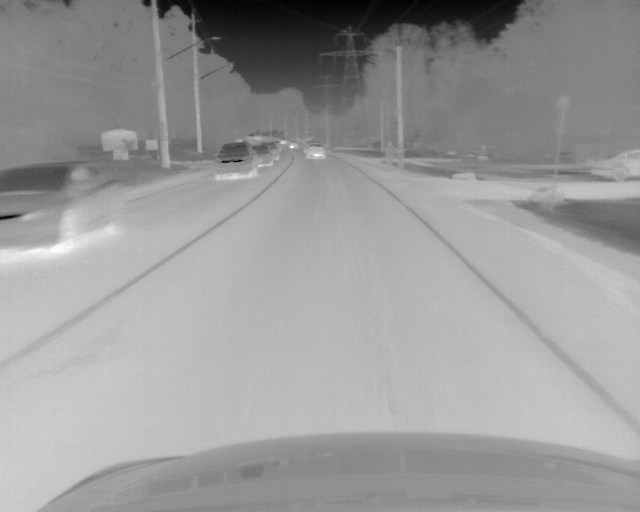car: (1, 162, 123, 250), (214, 140, 258, 181), (593, 149, 640, 184), (249, 145, 273, 168), (304, 143, 326, 161), (265, 143, 280, 161), (288, 141, 298, 150), (279, 139, 289, 145)
people: (394, 141, 405, 172), (384, 140, 393, 172)
